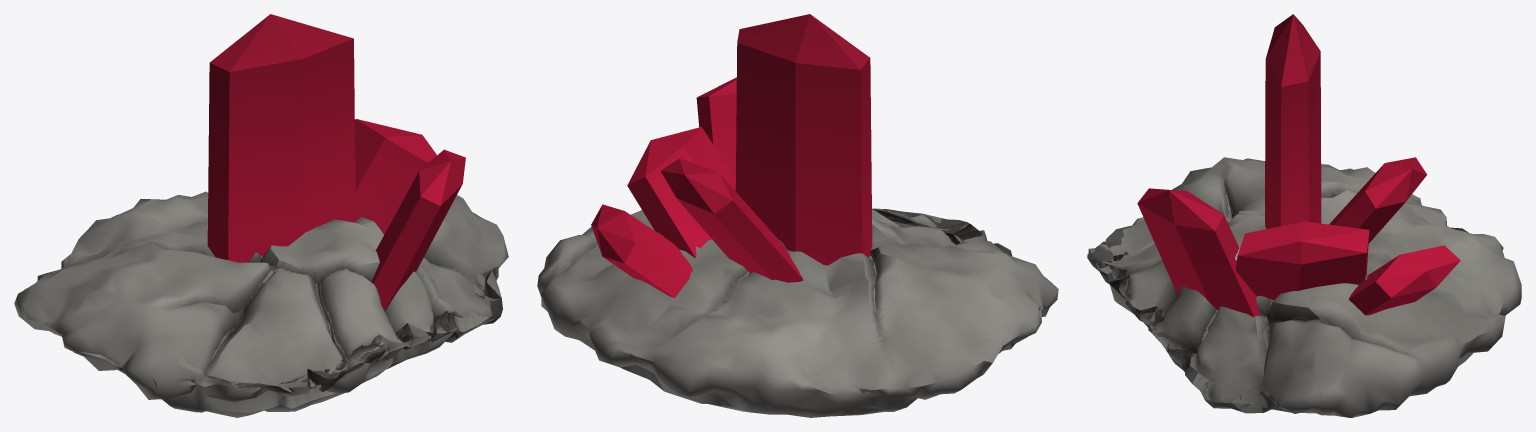
File: rubi_bruto.fbx
3 renders of one model, left to right at view 1: azimuth 30°, elevation 25°; view 2: azimuth 150°, elevation 25°; view 3: azimuth 270°, elevation 25°, orthographic. The views are drawn at different scales.
Visible parts, largest first — view 1: rubi_bruto, rubi_bruto_cristal; view 2: rubi_bruto, rubi_bruto_cristal; view 3: rubi_bruto, rubi_bruto_cristal.
Boxes of the visible parts, x1,y1,x2,y2 form: rubi_bruto: (14, 191, 508, 417); rubi_bruto_cristal: (207, 14, 465, 311); rubi_bruto: (537, 208, 1058, 417); rubi_bruto_cristal: (591, 14, 872, 297); rubi_bruto: (1087, 157, 1521, 417); rubi_bruto_cristal: (1137, 14, 1460, 317).
Size of the model in its own units: 2.61 by 1.78 by 2.24.
2 materials, 2 textured.
